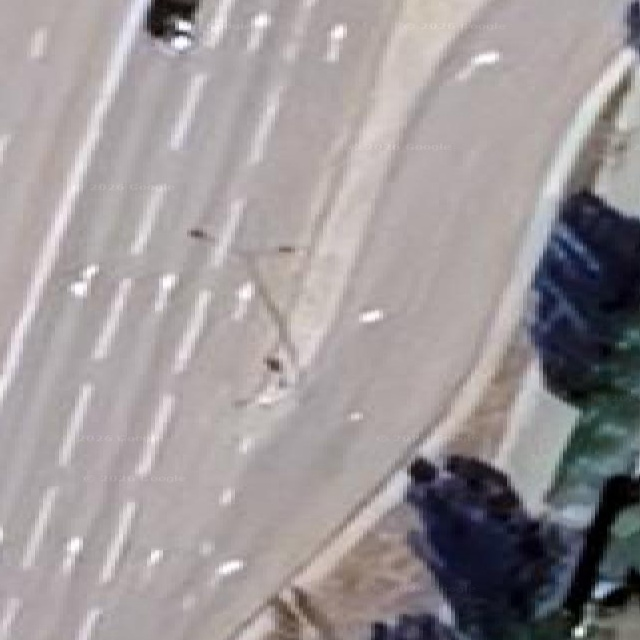car: (145, 0, 199, 53)
